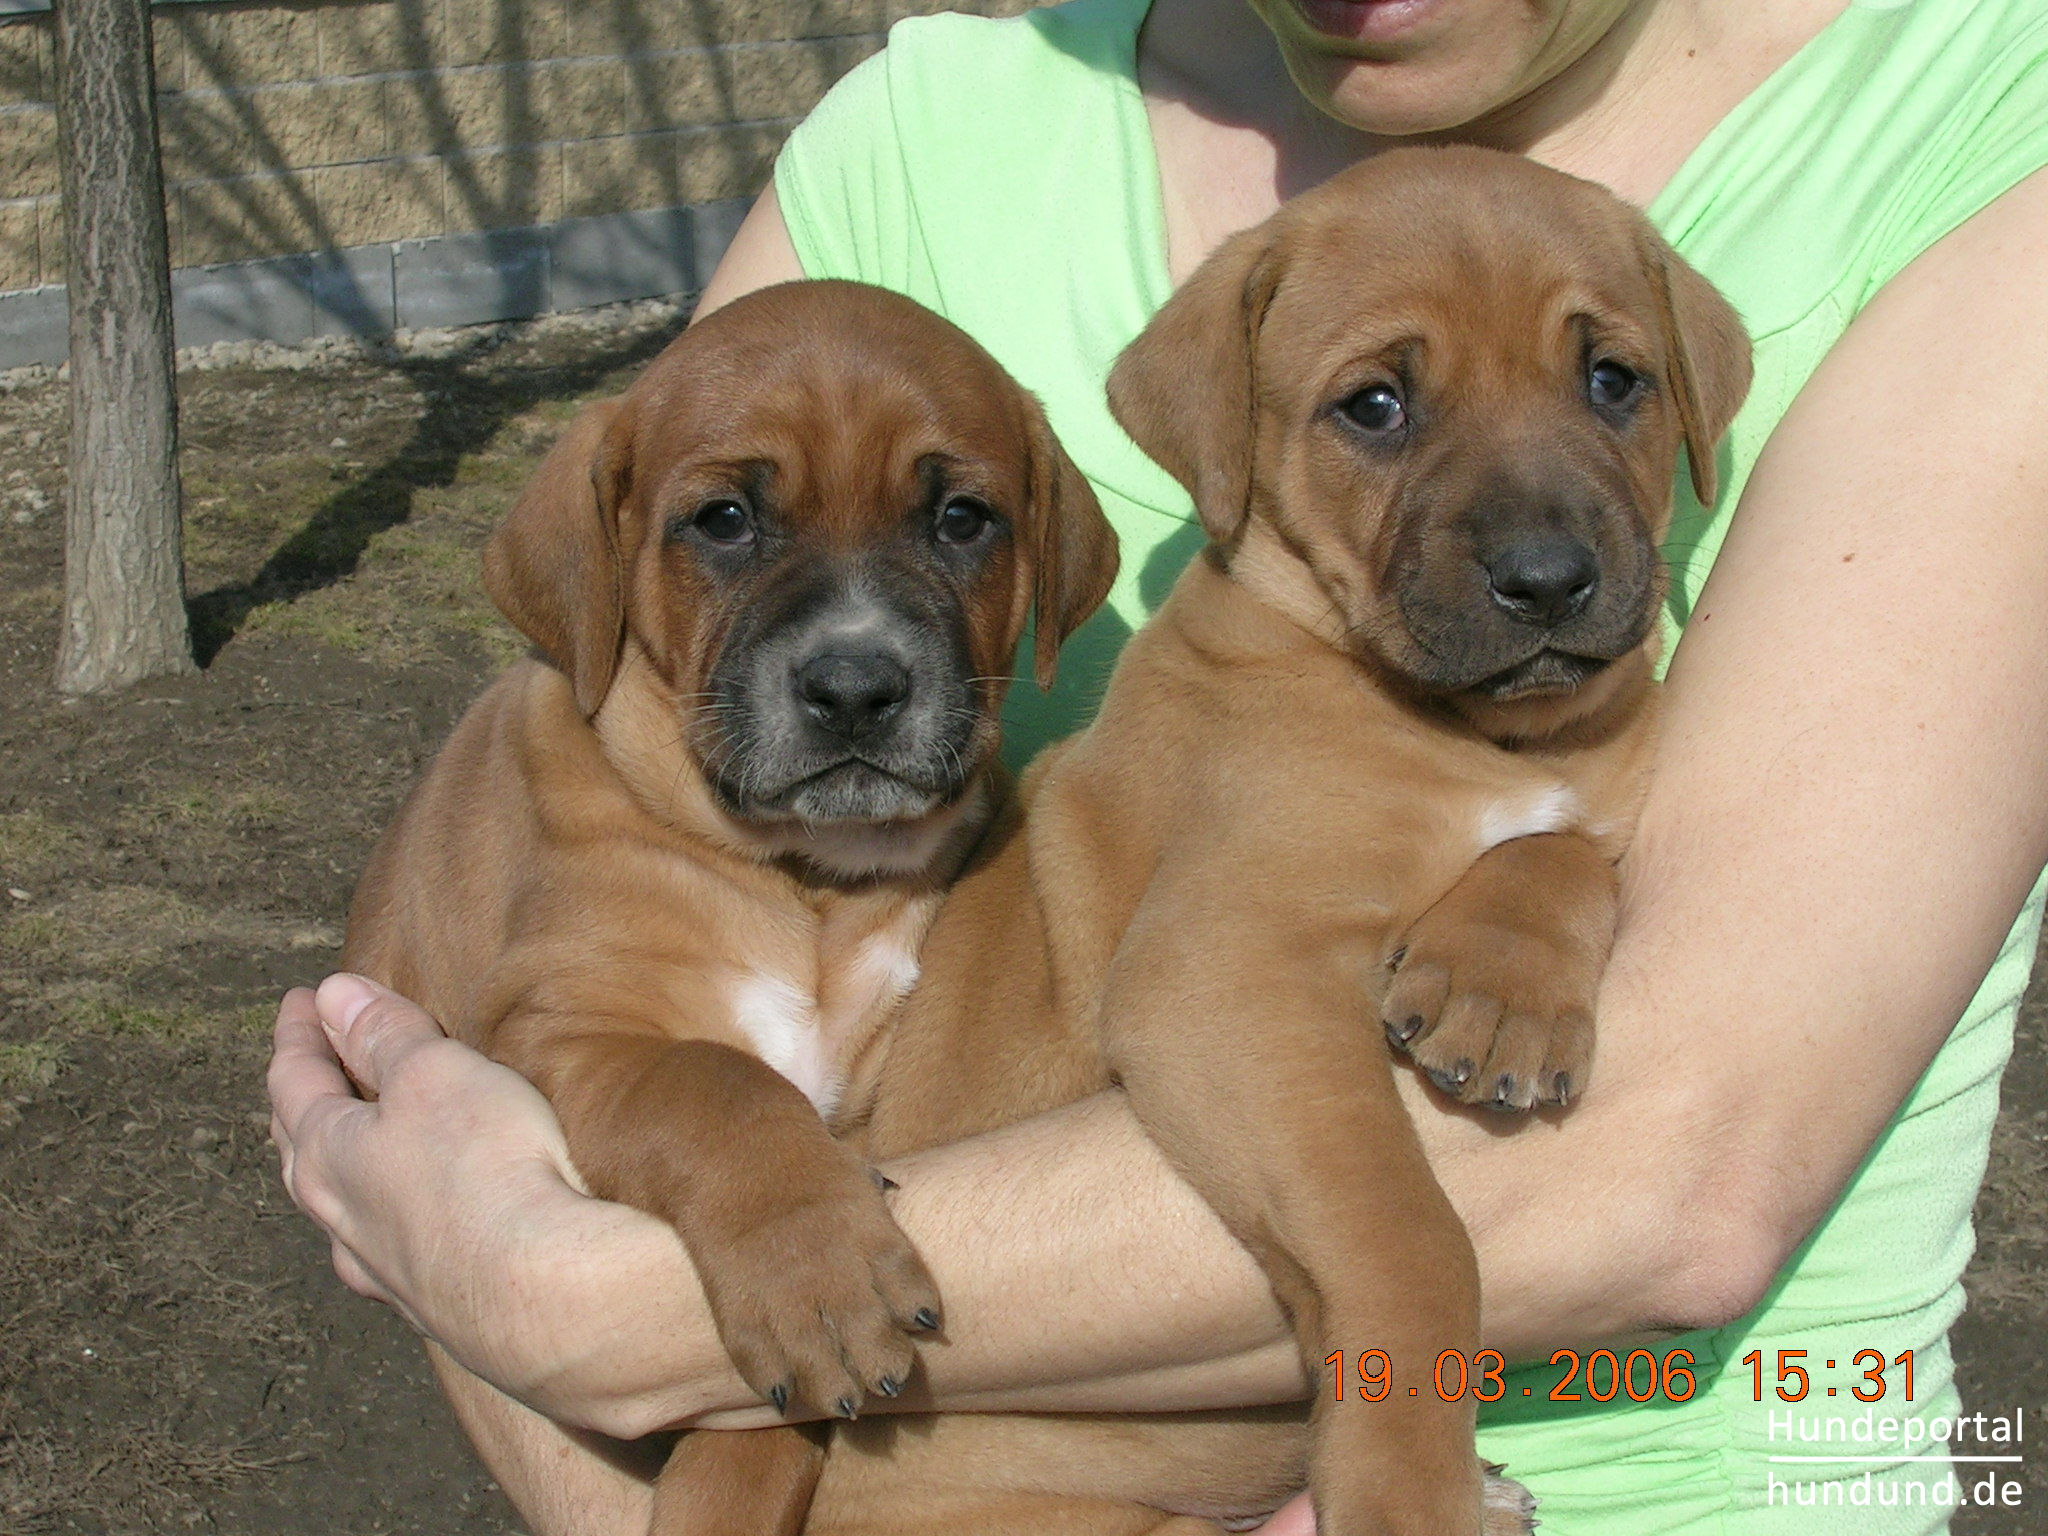person: (265, 0, 2048, 1536)
tosa_inu: (800, 146, 1760, 1535), (338, 275, 1125, 1536)
